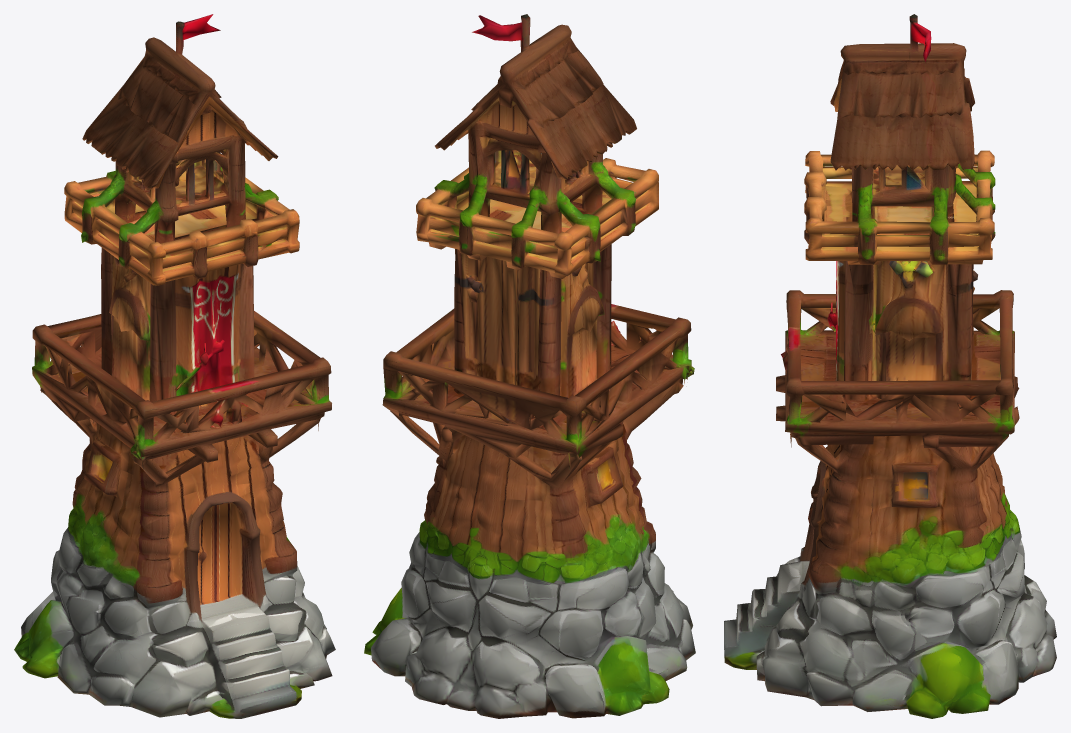
Rendered from act1_watchtower.glb.
3 renders of one model, left to right at view 1: azimuth 30°, elevation 25°; view 2: azimuth 150°, elevation 25°; view 3: azimuth 270°, elevation 25°, orthographic. The views are drawn at different scales.
Bounding box in the file's own units: 0.9035 × 1.91 × 0.9056.
1 material, 1 textured.
